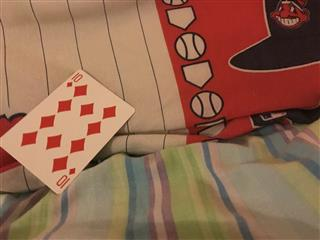TenOfDiamonds: (1, 68, 135, 195)
